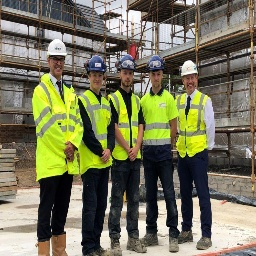helmet: (43, 36, 68, 64), (178, 58, 201, 80), (116, 52, 138, 74), (84, 54, 105, 75), (146, 53, 165, 76)
person: (32, 33, 78, 256), (174, 59, 218, 248), (140, 55, 182, 247), (107, 49, 144, 256), (81, 56, 110, 256)
vest: (35, 73, 79, 169), (79, 86, 112, 167), (177, 86, 212, 159), (110, 84, 141, 161), (141, 88, 173, 159)
